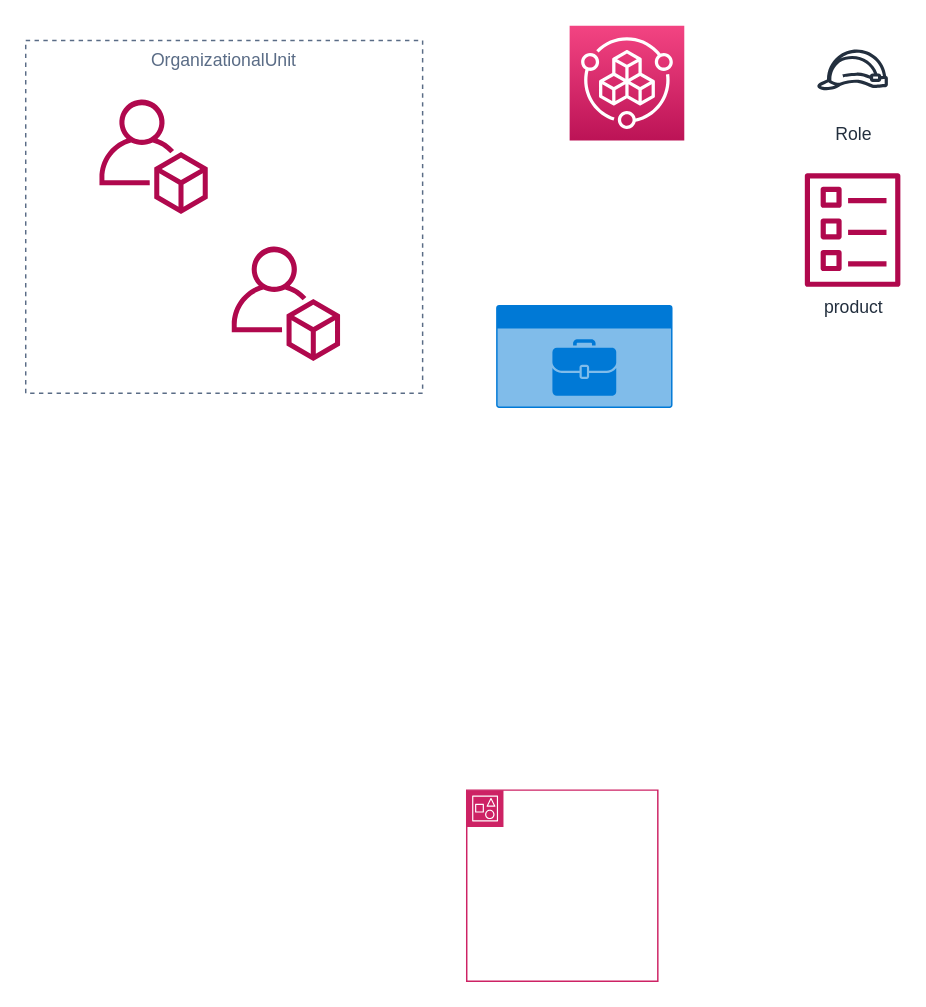
Some shapes in this 926 by 1007 pixel diagram are drawn without their labels. Each missing label, with the box of its shape:
AWS Account: (465, 789, 658, 981)
Portfolio: (495, 304, 672, 407)
